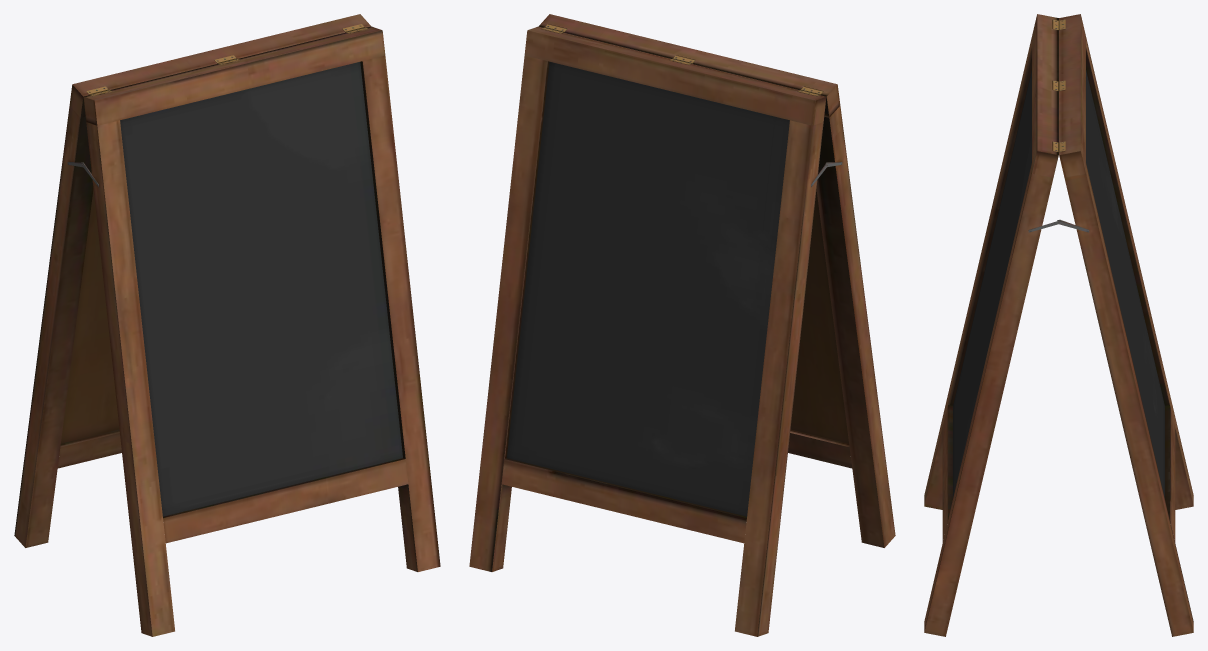
Rendered from chalkboard.glb.
The picture shows the model from 3 angles, left to right: view 1: azimuth 30°, elevation 25°; view 2: azimuth 150°, elevation 25°; view 3: azimuth 270°, elevation 25°; orthographic projection. The views are drawn at different scales.
Visible parts, largest first — view 1: chalkboard; view 2: chalkboard; view 3: chalkboard.
Part boxes in pixels (x1,y1,x2,y2): chalkboard: (14, 14, 440, 636); chalkboard: (469, 14, 895, 636); chalkboard: (924, 14, 1193, 636).
Size of the model in its own units: 0.9195 by 1.51 by 0.7587.
Materials: 1 (1 with a texture image).
